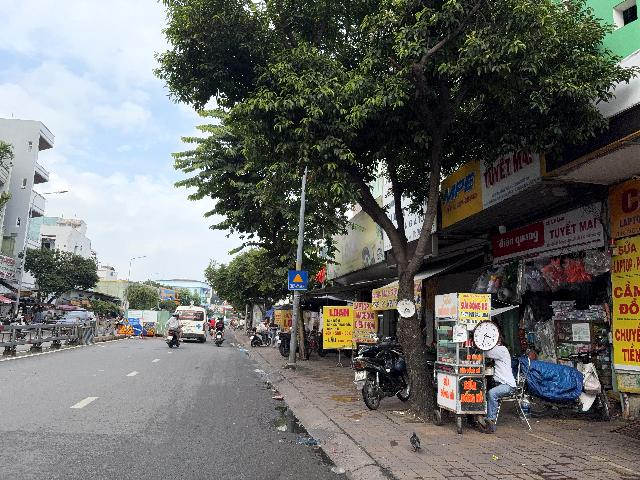khu-vuc-cho-phia-truoc: (288, 270, 308, 290)
